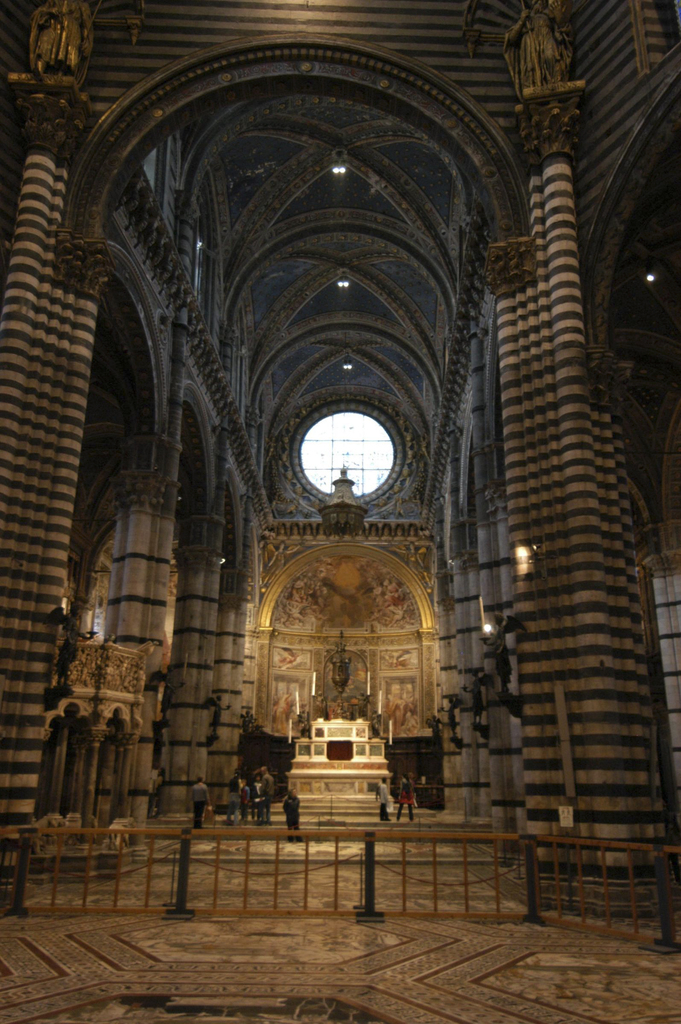Person: (192, 765, 417, 842)
